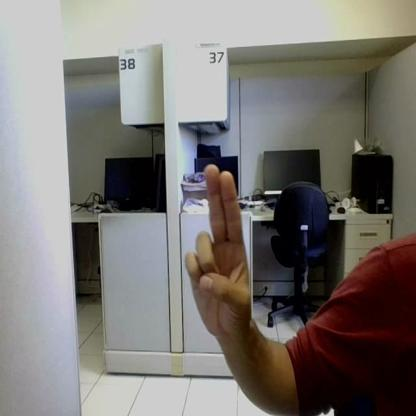U: (187, 165, 250, 335)
